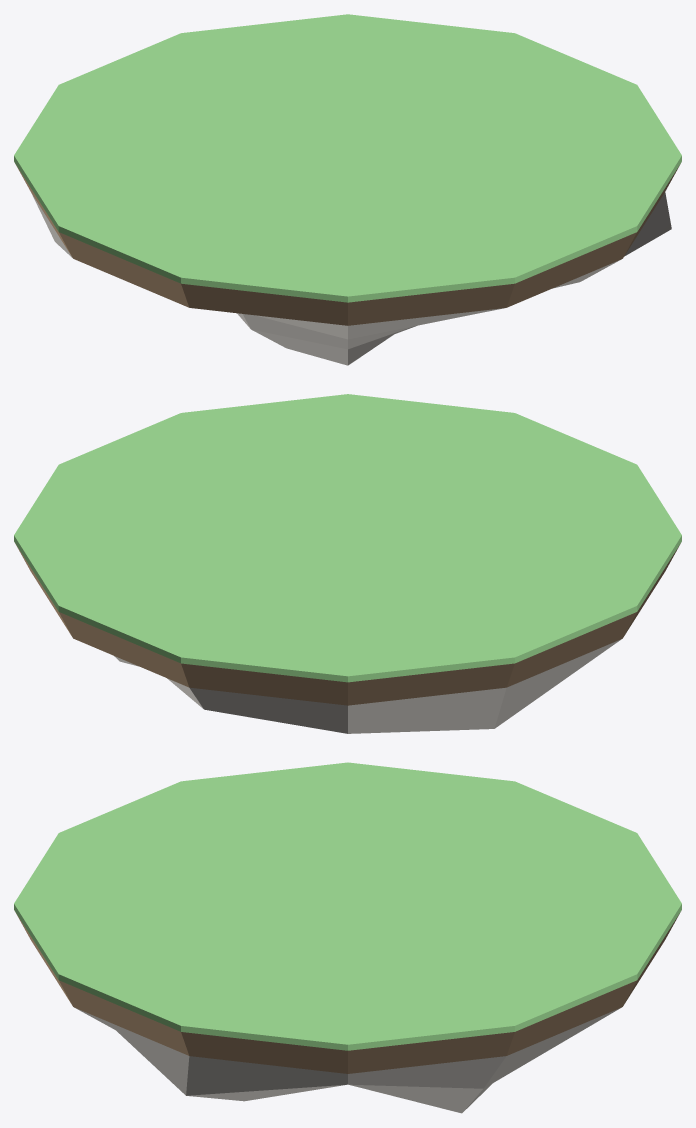
The model's file is island.glb.
3 renders of one model, top to bottom at view 1: azimuth 30°, elevation 25°; view 2: azimuth 150°, elevation 25°; view 3: azimuth 270°, elevation 25°, orthographic.
Parts seen in each view (by area): view 1: floating_island.001; view 2: floating_island.001; view 3: floating_island.001.
Boxes of the visible parts, bbox=[...] form: floating_island.001: bbox=[14, 14, 681, 365]; floating_island.001: bbox=[14, 394, 681, 733]; floating_island.001: bbox=[14, 762, 681, 1113].
Bounding box in the file's own units: 100 × 24.85 × 100.
